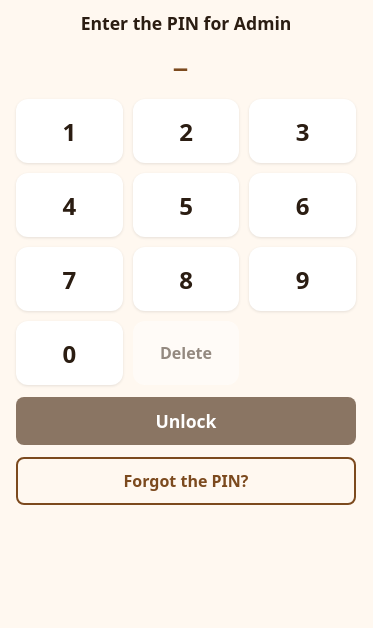
Test case: PinPrompt — entering a stored PIN › says so, without burning an attempt, when Web Crypto is unavailable
The image size is (373, 628).
Click the button "4".
click(69, 205)  # box [16,173,123,237]
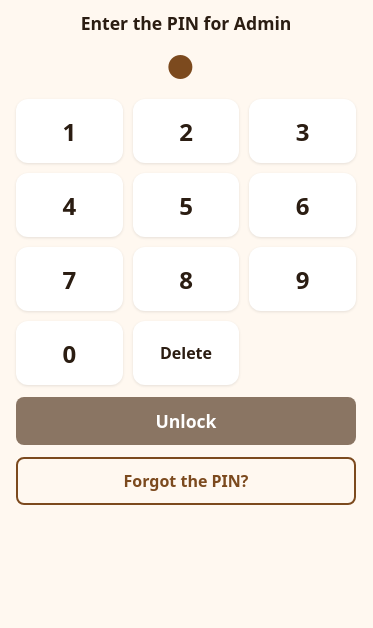
Click the button "8".
click(186, 279)  # box [133,247,239,311]
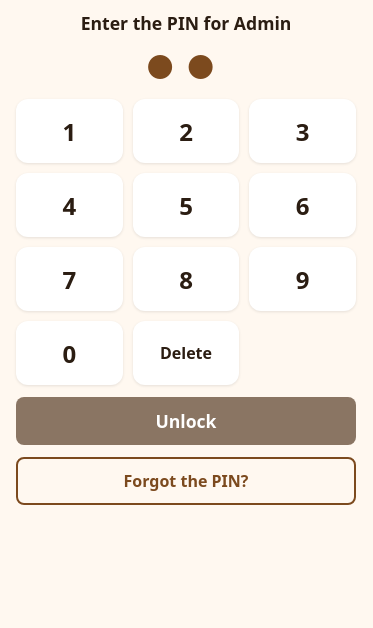
Click the button "2".
click(186, 131)  # box [133,99,239,163]
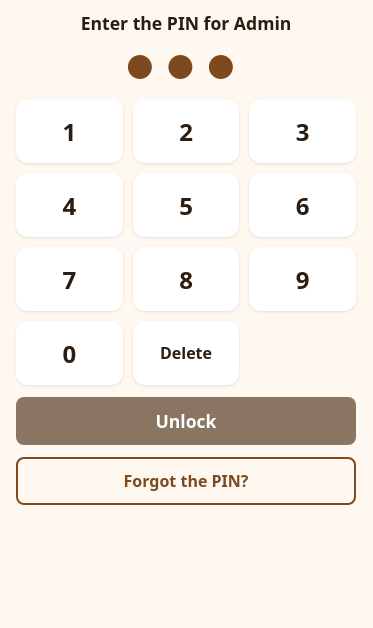
Click the button "1".
click(69, 131)  # box [16,99,123,163]
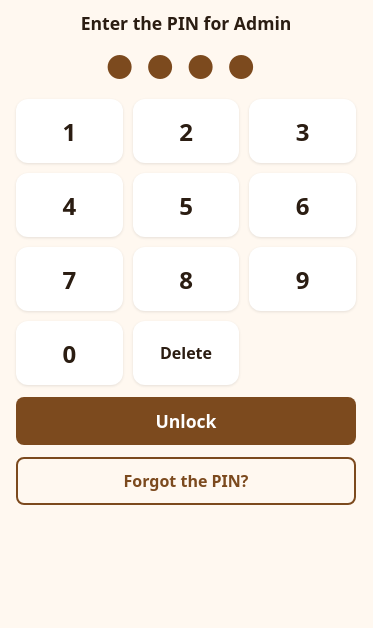
Click the button "Unlock".
click(186, 421)  # box [16,397,356,445]
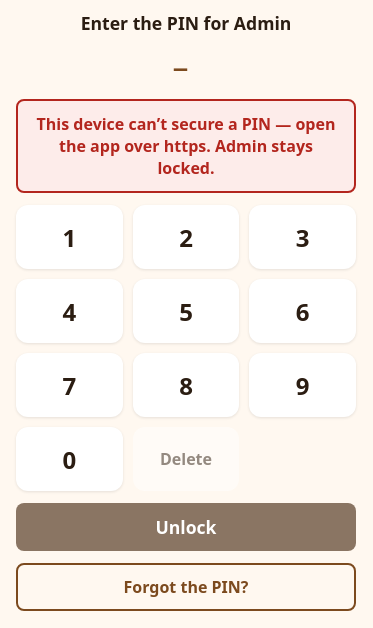
Expected: the message shows "https", [37,113,335,179]
